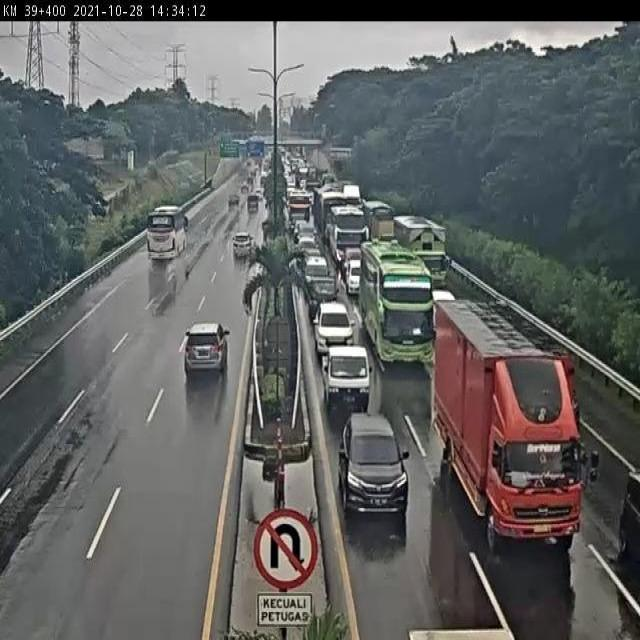big bus: (359, 241, 429, 364), (145, 204, 189, 260), (330, 208, 366, 265), (286, 190, 312, 230)
big truck: (439, 301, 599, 560), (392, 216, 453, 292), (319, 194, 345, 238)
car: (335, 415, 410, 524), (320, 334, 370, 402), (182, 321, 233, 380), (311, 303, 350, 341), (558, 352, 573, 427), (308, 275, 341, 309), (230, 230, 254, 266), (346, 261, 361, 295), (303, 256, 328, 276), (297, 234, 317, 258), (293, 218, 316, 238), (225, 193, 242, 215), (245, 196, 259, 220)
